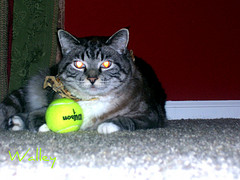tennis ball: (44, 97, 83, 135)
